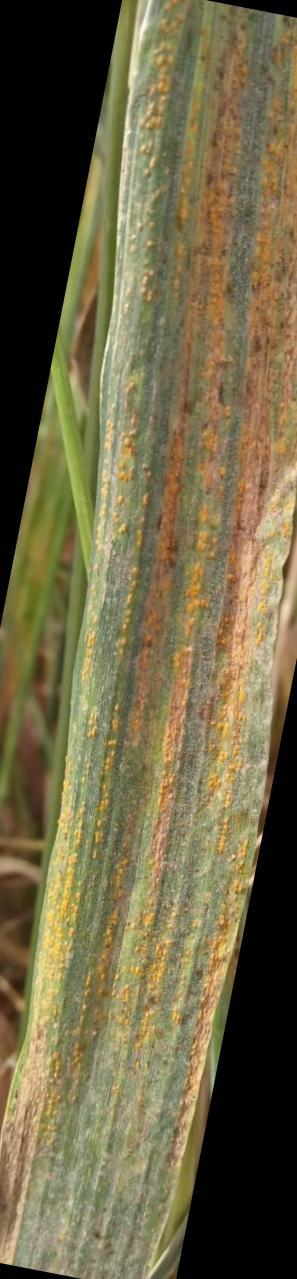Wheat: (142, 36, 292, 535), (97, 552, 252, 854), (59, 870, 202, 1073), (27, 1104, 153, 1265)
